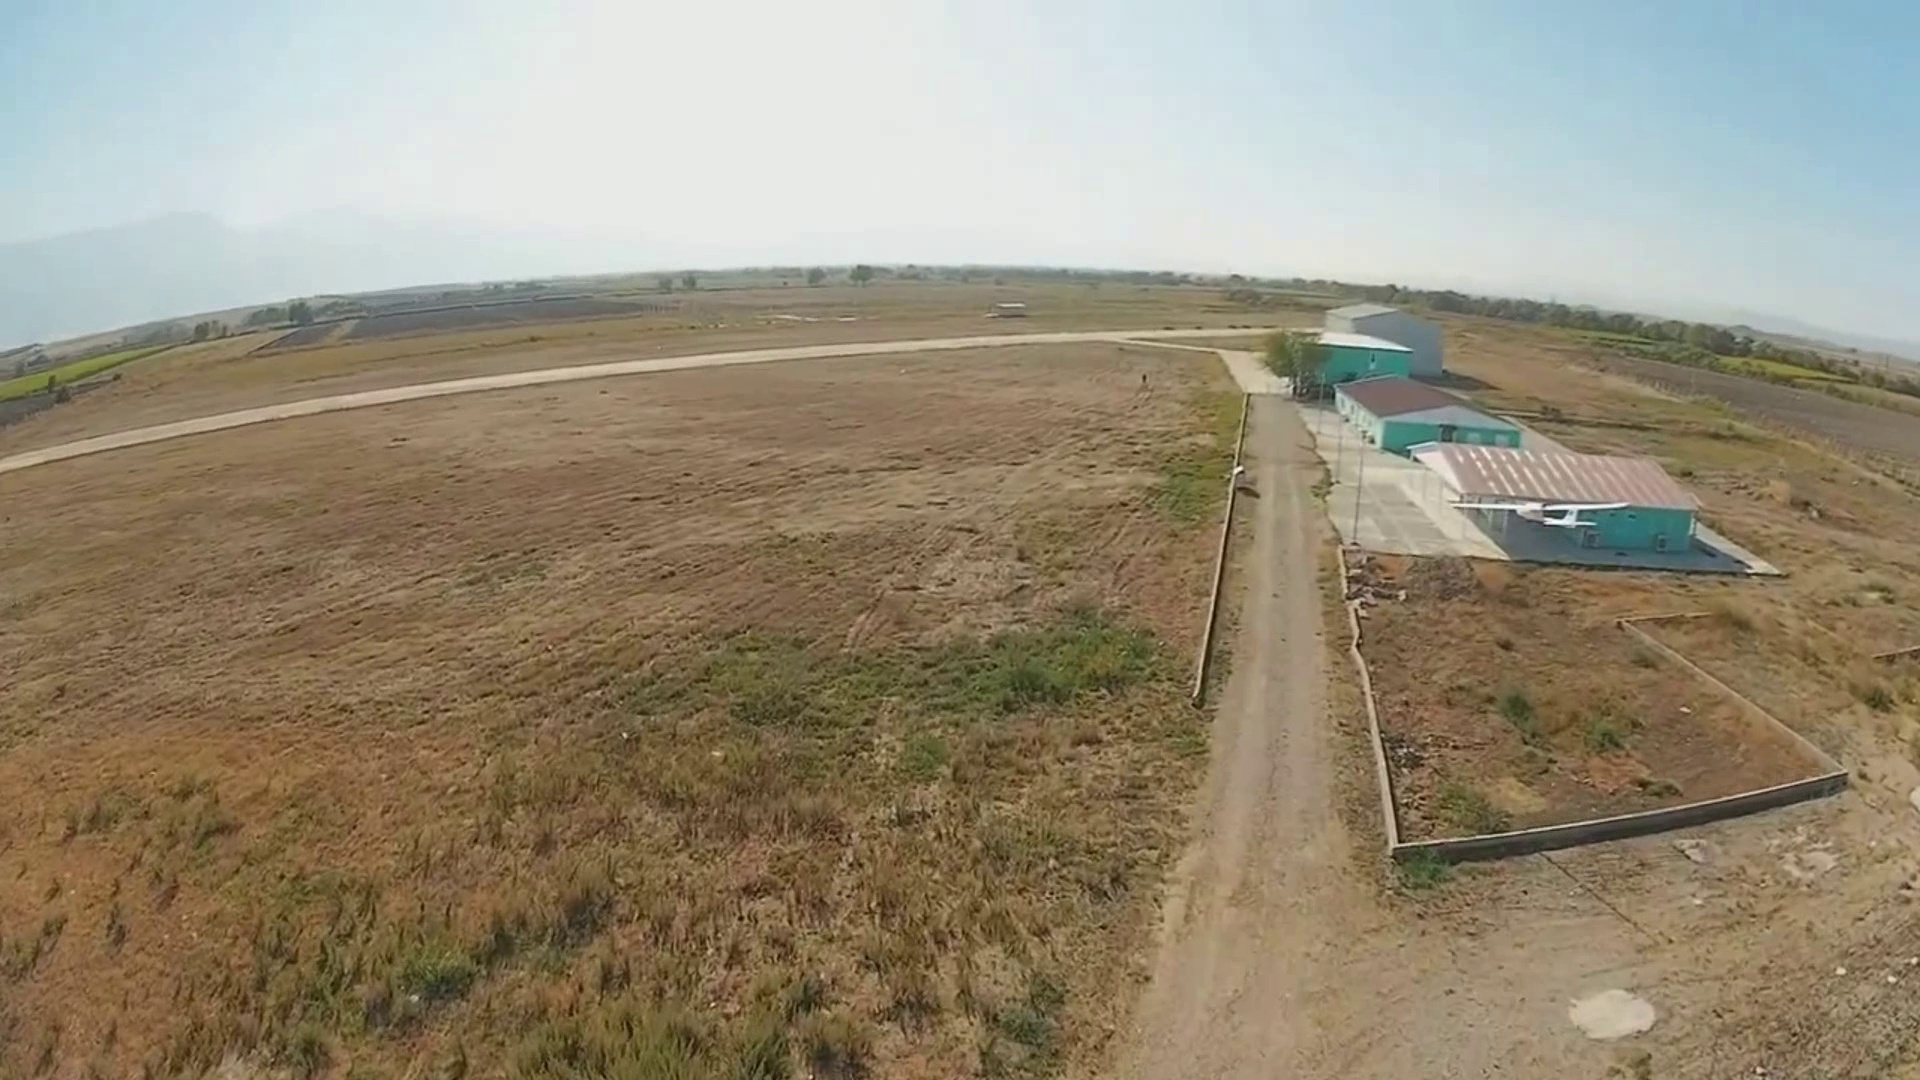airplane: (1327, 363, 1783, 582)
